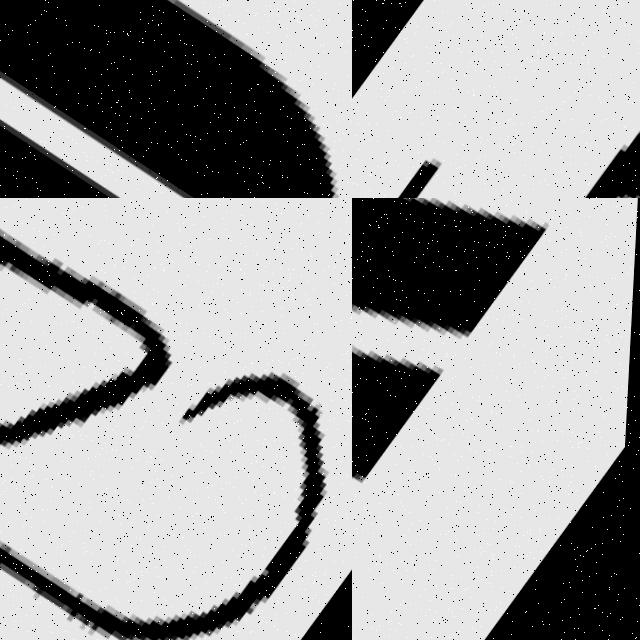D: (352, 0, 640, 198)
M: (352, 198, 568, 640)
Y: (0, 198, 352, 640)
